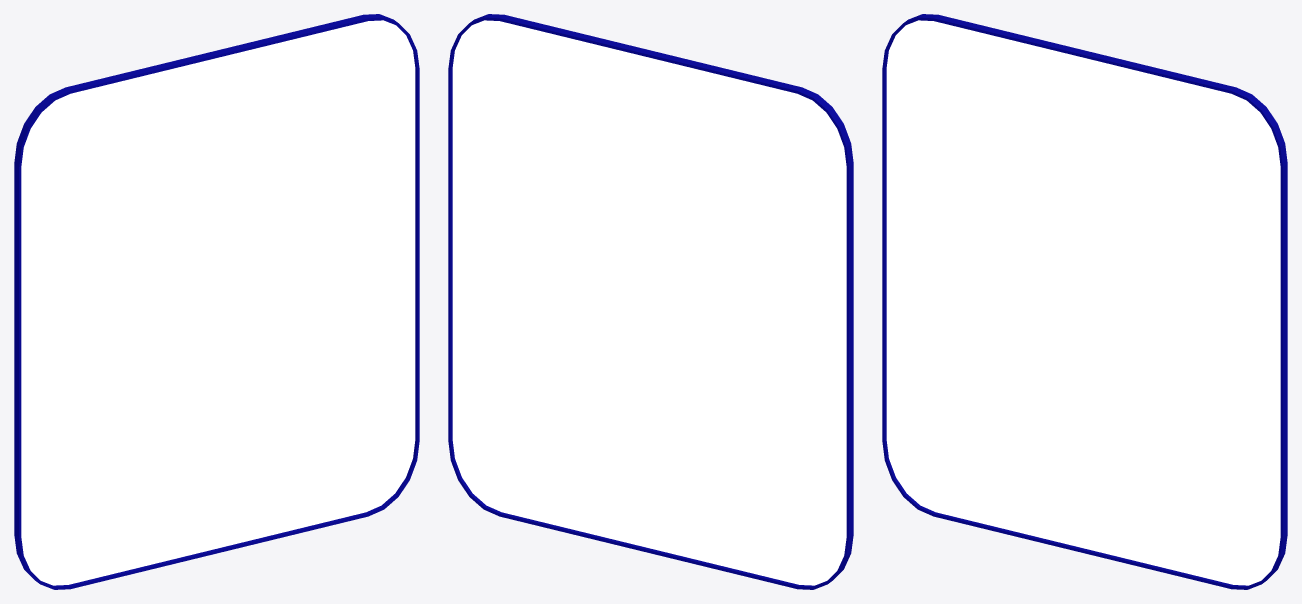
File: InfoLRG.glb
The picture shows the model from 3 angles, left to right: view 1: azimuth 30°, elevation 25°; view 2: azimuth 150°, elevation 25°; view 3: azimuth 330°, elevation 25°; orthographic projection.
Parts seen in each view (by area): view 1: Plane.001; view 2: Plane.001; view 3: Plane.001.
Part boxes in pixels (x1,y1,x2,y2): Plane.001: (14, 14, 419, 589); Plane.001: (448, 14, 853, 589); Plane.001: (882, 14, 1287, 589).
Size of the model in its own units: 3.31 by 3.93 by 0.0696.
